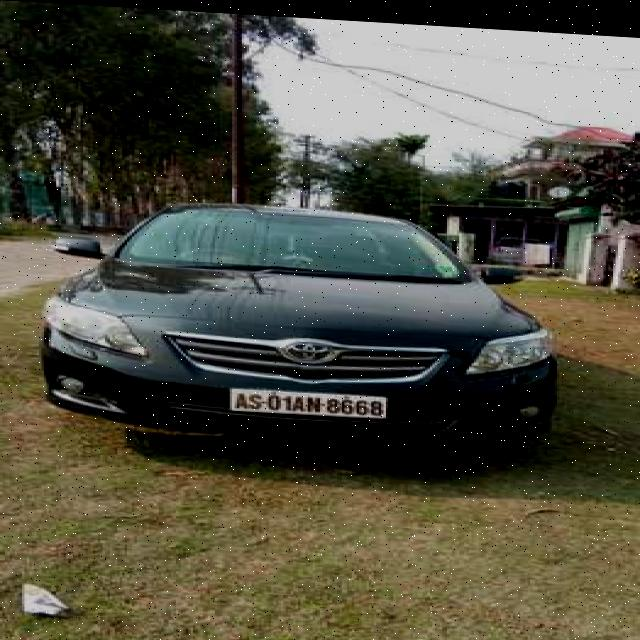plate: (222, 380, 392, 419)
